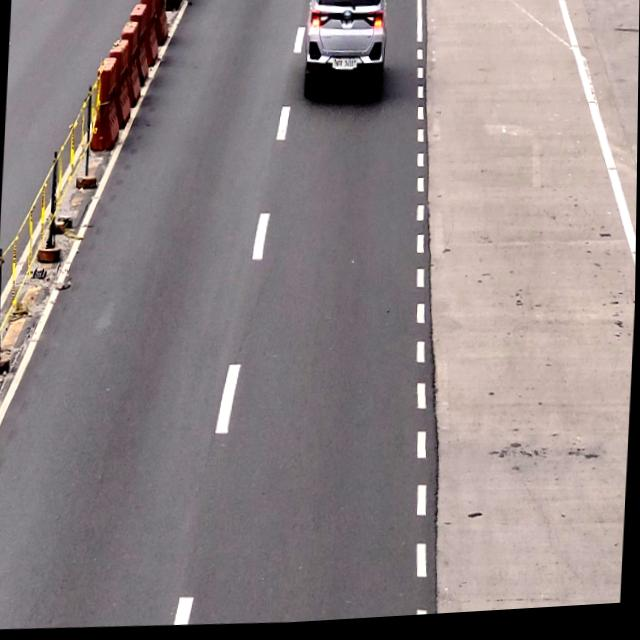Car: (300, 0, 389, 105)
License-Plate: (333, 56, 356, 77)
